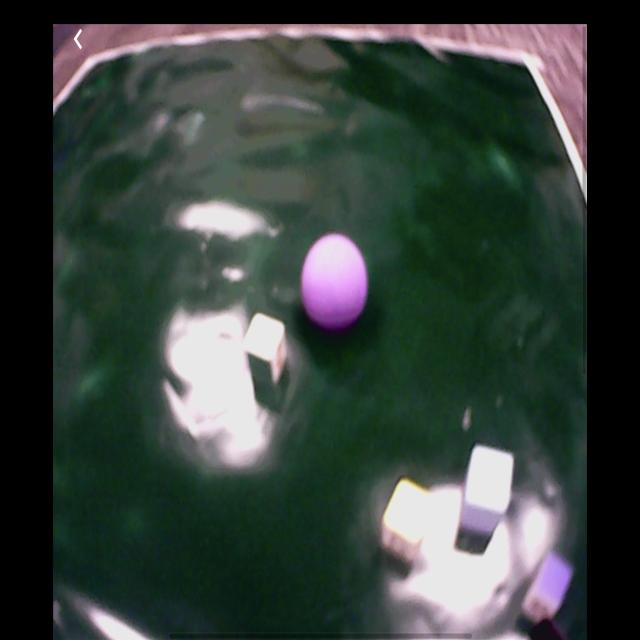ball: (302, 235, 369, 330)
